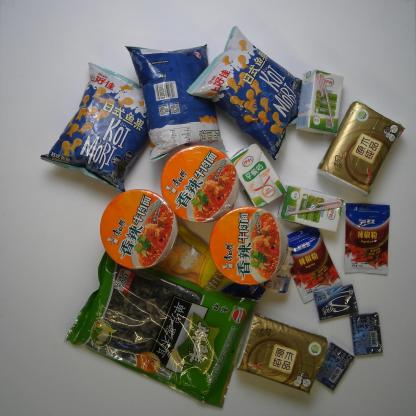Dried Food: (62, 246, 263, 411)
Dried Fruit: (130, 212, 267, 320)
Gum: (313, 340, 357, 393), (311, 282, 361, 322), (348, 310, 386, 358)
Instant Noodles: (207, 204, 292, 288), (98, 188, 181, 271), (160, 144, 240, 226)
Milk: (224, 142, 288, 209), (276, 182, 346, 234), (293, 69, 346, 137), (262, 242, 300, 297)
Puffed Food: (184, 23, 306, 163), (38, 59, 154, 195), (122, 39, 231, 165)
Seasoner: (281, 224, 343, 305), (343, 201, 392, 276)
Tissue: (315, 97, 407, 200), (233, 312, 330, 396)
